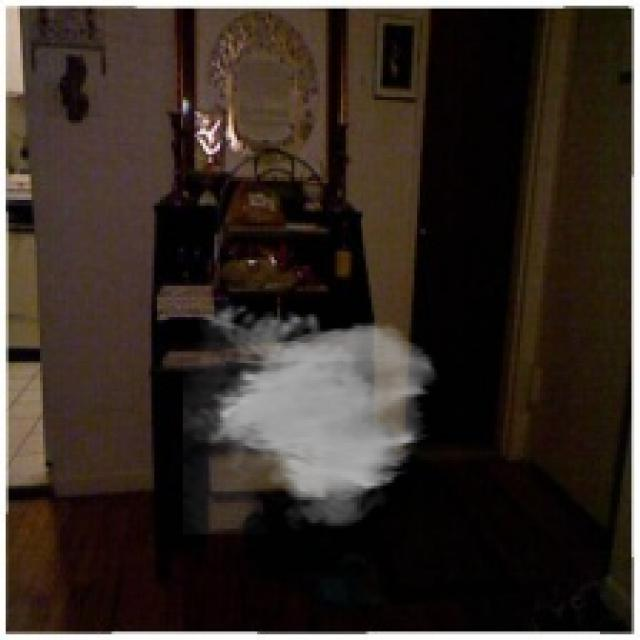smoke: (183, 297, 440, 534)
